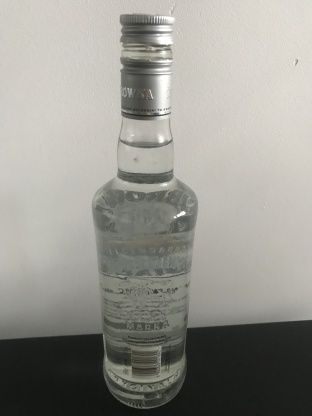nakretka: (119, 12, 175, 119)
